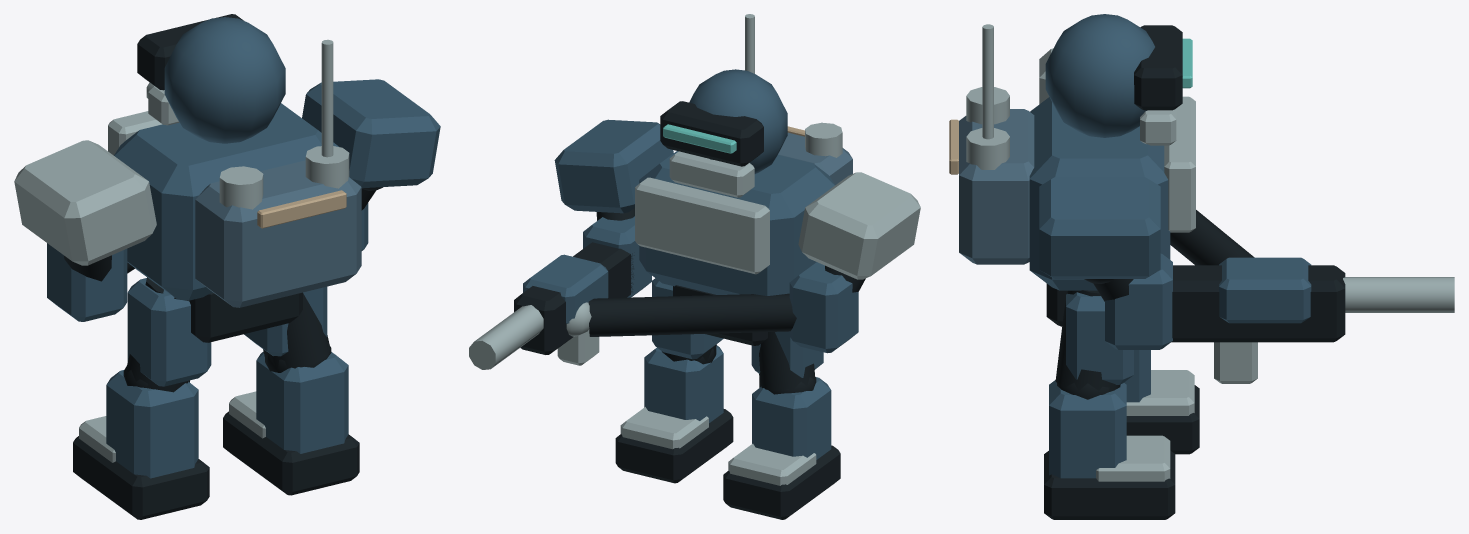
File: legion_trooper_0110.glb
The picture shows the model from 3 angles, left to right: view 1: azimuth 30°, elevation 25°; view 2: azimuth 150°, elevation 25°; view 3: azimuth 270°, elevation 25°; orthographic projection. The views are drawn at different scales.
Parts seen in each view (by area): view 1: _MeshInstance3D_41, _MeshInstance3D_40, _MeshInstance3D_42, _MeshInstance3D_43, _MeshInstance3D_44; view 2: _MeshInstance3D_41, _MeshInstance3D_42, _MeshInstance3D_40, _MeshInstance3D_43, _MeshInstance3D_45; view 3: _MeshInstance3D_41, _MeshInstance3D_40, _MeshInstance3D_42, _MeshInstance3D_43.
Boxes of the visible parts, x1,y1,x2,y2 form: _MeshInstance3D_41: (47, 17, 440, 478); _MeshInstance3D_40: (64, 14, 383, 519); _MeshInstance3D_42: (14, 39, 349, 462); _MeshInstance3D_43: (195, 160, 361, 307); _MeshInstance3D_44: (257, 190, 346, 228); _MeshInstance3D_41: (523, 69, 858, 459); _MeshInstance3D_42: (469, 14, 920, 485); _MeshInstance3D_40: (514, 101, 865, 519); _MeshInstance3D_43: (778, 132, 852, 184); _MeshInstance3D_45: (663, 124, 736, 153); _MeshInstance3D_41: (1029, 14, 1311, 478); _MeshInstance3D_40: (1044, 25, 1345, 519); _MeshInstance3D_42: (966, 24, 1454, 481); _MeshInstance3D_43: (959, 109, 1034, 264).
Bounding box in the file's own units: 1.49 × 1.8 × 1.77.
